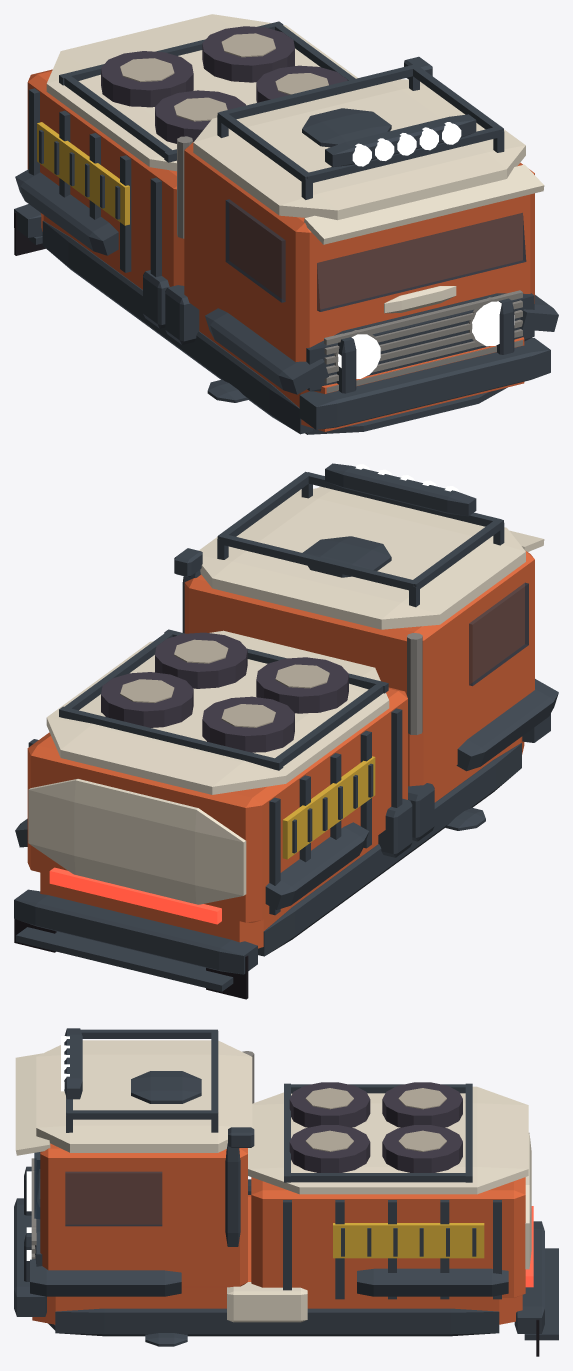
Rendered from marisol_body.glb.
3 renders of one model, top to bottom at view 1: azimuth 30°, elevation 25°; view 2: azimuth 150°, elevation 25°; view 3: azimuth 270°, elevation 25°, orthographic. The views are drawn at different scales.
Visible parts, largest first — view 1: marisol_body; view 2: marisol_body; view 3: marisol_body.
Boxes of the visible parts, <box> form: marisol_body: <box>14,14,558,434</box>; marisol_body: <box>14,463,558,999</box>; marisol_body: <box>14,1028,558,1356</box>.
Size of the model in its own units: 2.71 by 2.76 by 5.4.
